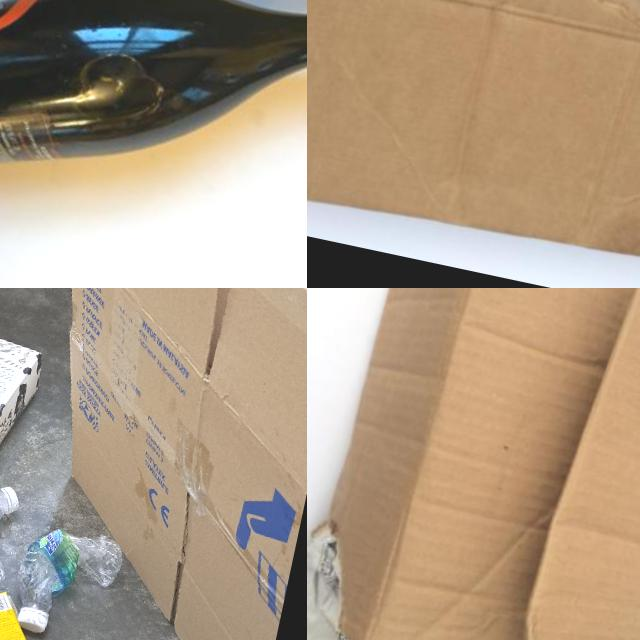caixinha: (0, 326, 46, 500)
garrafa de vidro: (0, 0, 307, 272)
garrafa plástica: (11, 518, 126, 626), (0, 480, 22, 611)
papelão: (307, 288, 640, 640), (0, 288, 307, 640), (307, 0, 640, 288)
tampa plástica: (16, 605, 48, 634), (0, 484, 22, 513)
